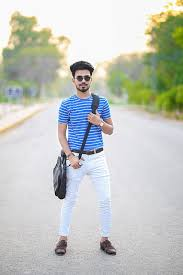person: (59, 55, 111, 137)
